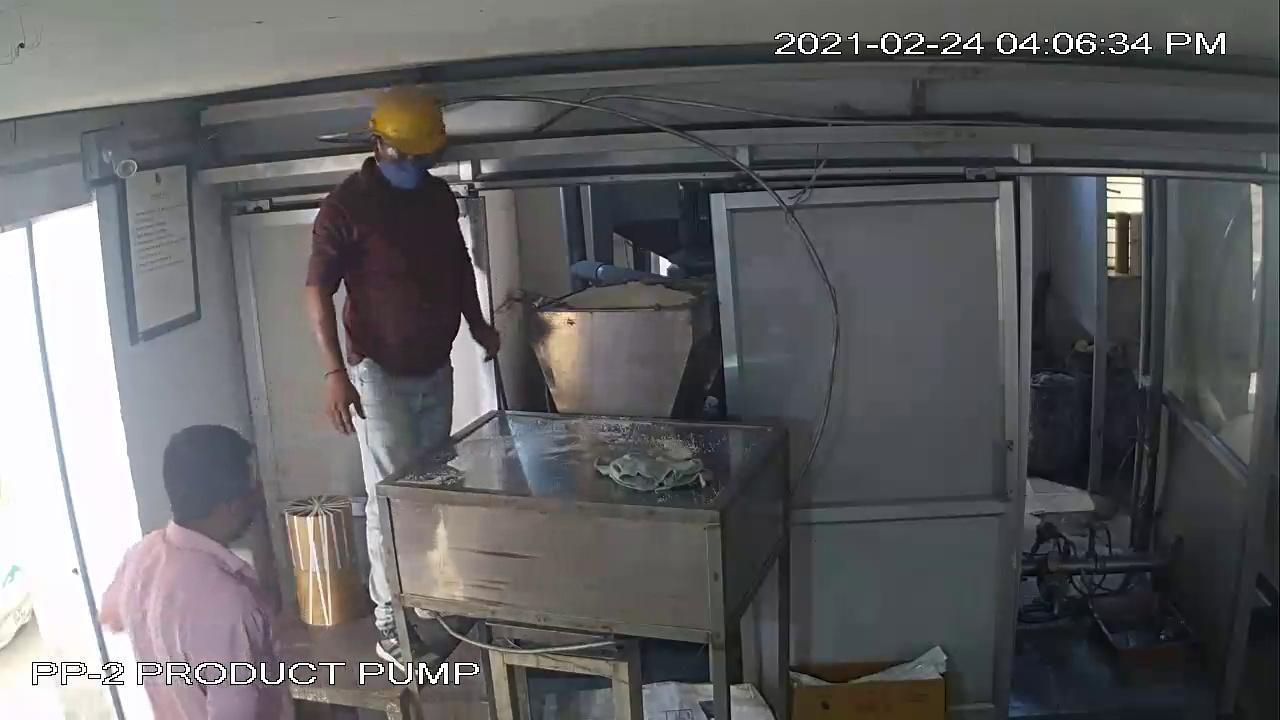helmet: (355, 80, 465, 170)
